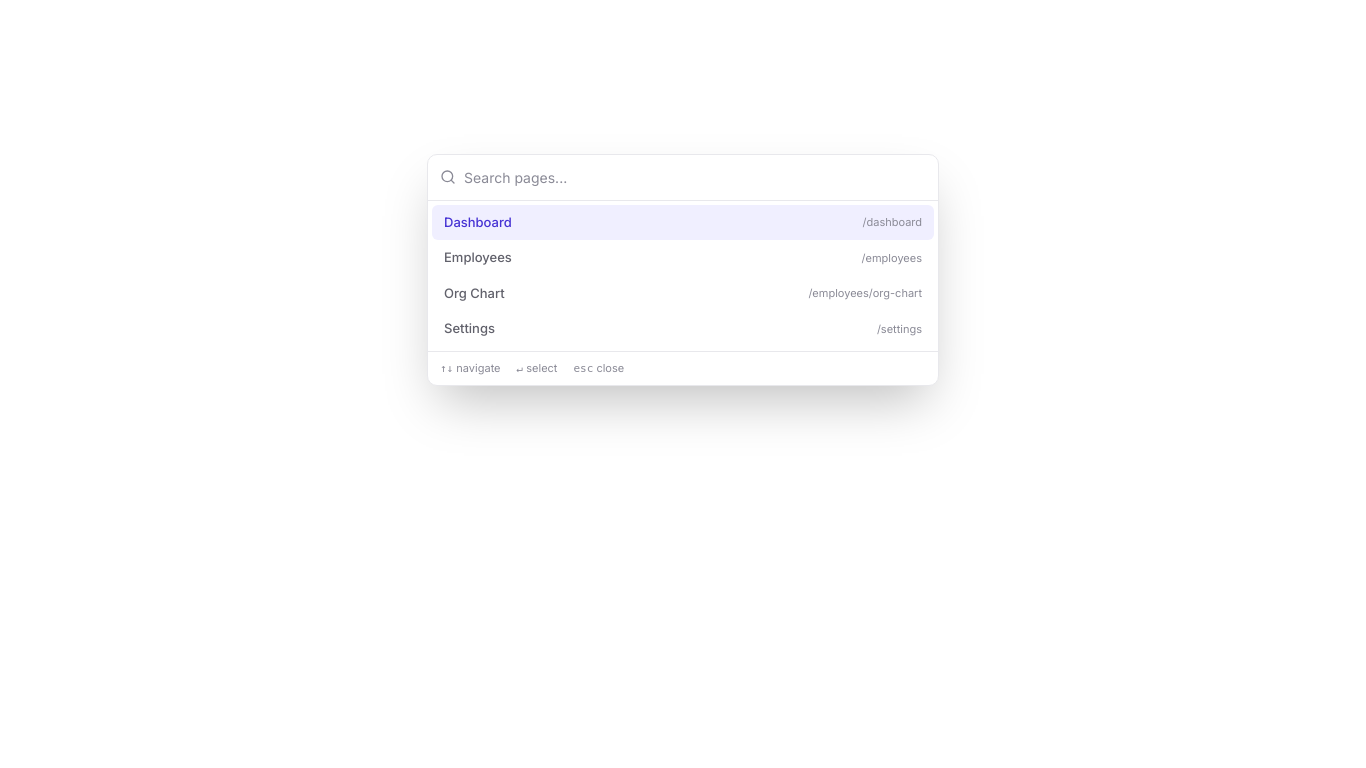
CommandPalette › filters results by query
Type "emp" into the dropdown with placeholder "Search pages..." at point(691, 177), box [456, 155, 926, 200]
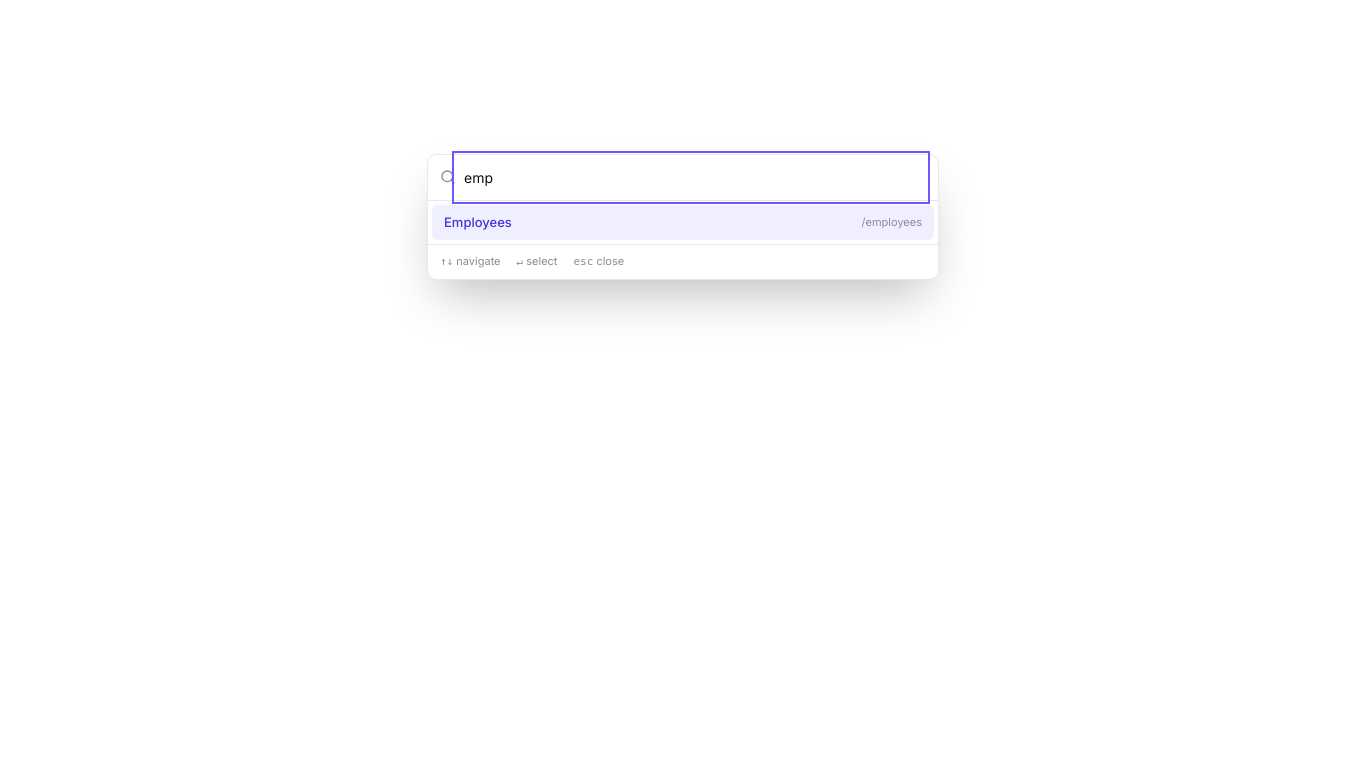
Expected: the text "Employees" is shown, [444, 213, 512, 232]
Now the option "Dashboard" is gone
